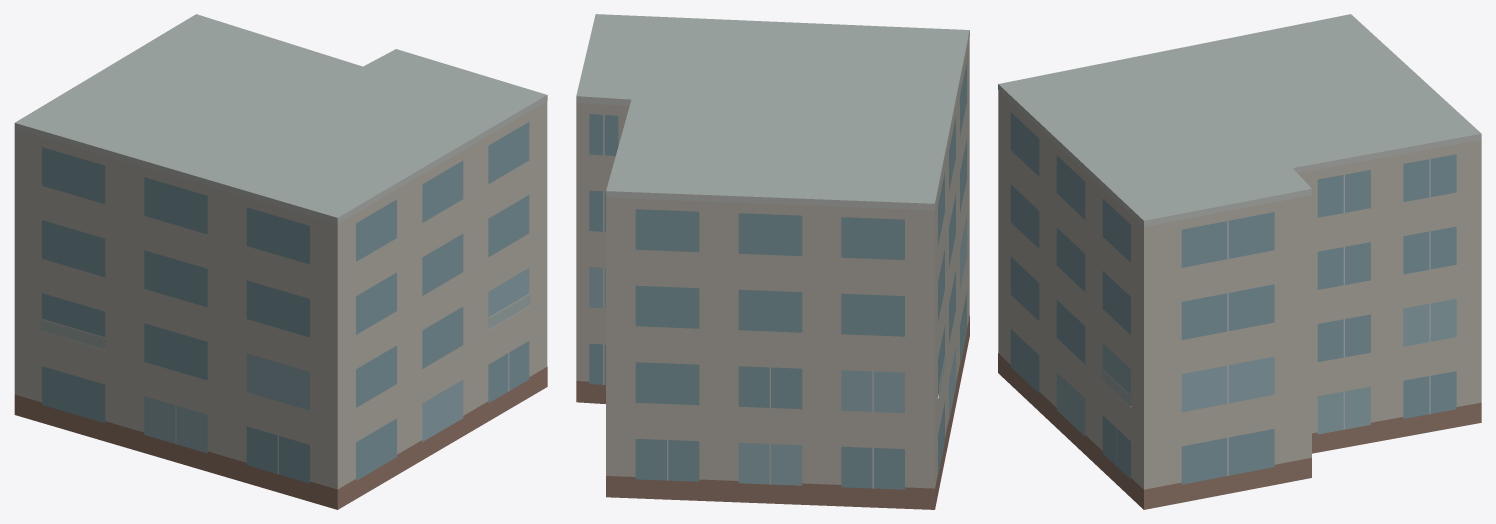
The model's file is survey-upis-32613324.glb.
The picture shows the model from 3 angles, left to right: view 1: azimuth 30°, elevation 25°; view 2: azimuth 150°, elevation 25°; view 3: azimuth 270°, elevation 25°; orthographic projection. The views are drawn at different scales.
Visible parts, largest first — view 1: survey-upis-32613324.tmp; view 2: survey-upis-32613324.tmp; view 3: survey-upis-32613324.tmp.
Boxes of the visible parts, x1=… form: survey-upis-32613324.tmp: x1=14, y1=14, x2=547, y2=509; survey-upis-32613324.tmp: x1=576, y1=14, x2=969, y2=509; survey-upis-32613324.tmp: x1=998, y1=14, x2=1481, y2=509.
Size of the model in its own units: 17.66 by 11.5 by 17.44.
